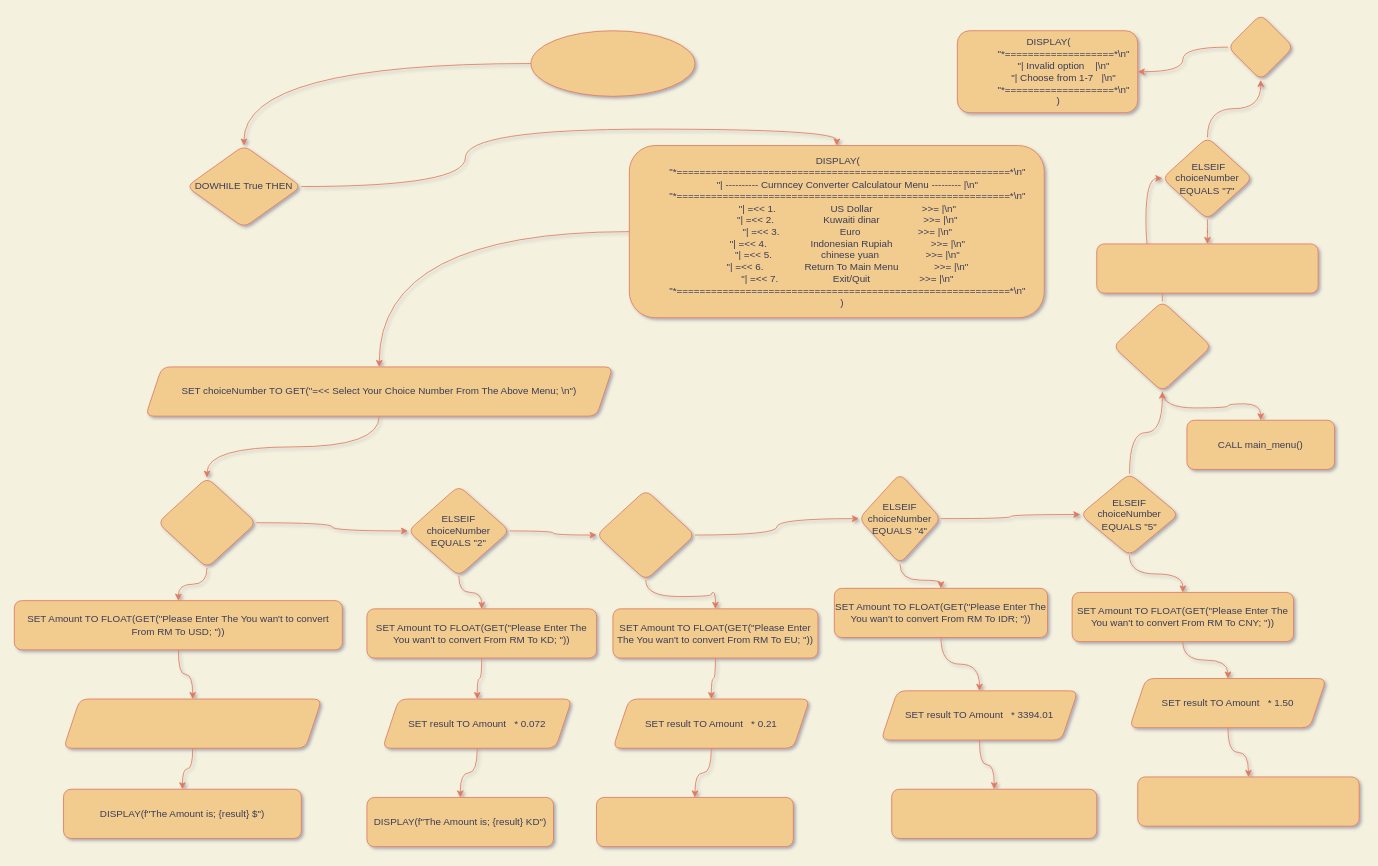
This 1378x866 diagram has some shape labels left out. The centre of each missing label's shape, as x and y in pixels:
CALL exit(): [1207,268]
DEFINE Currncy_Conv_Calc(): [612,63]
DISPLAY(f"The Amount is; {result} Rp"): [994,813]
DISPLAY(f"The Amount is; {result} ¥"): [1248,801]
DISPLAY(f"The Amount is; {result} €"): [694,822]
ELSE: [1260,47]
ELSEIF choiceNumber EQUALS "3": [645,534]
ELSEIF choiceNumber EQUALS "6": [1162,346]
IF choiceNumber EQUALS "1": [206,522]
SET result TO Amount * 0.24: [192,723]
